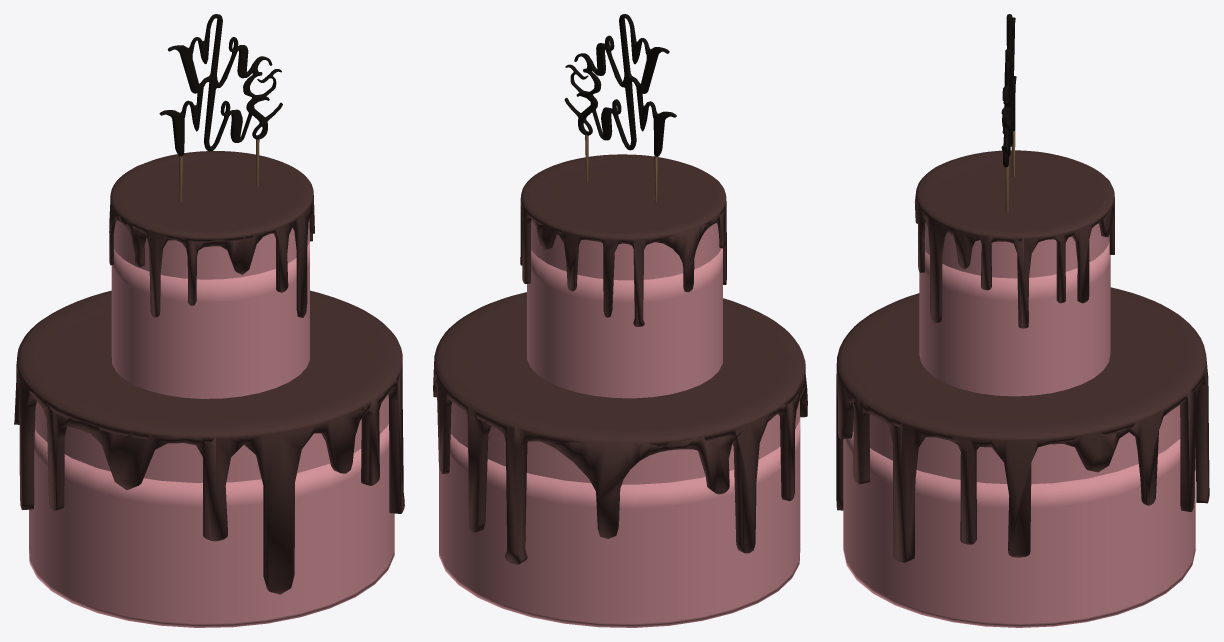
File: 2-tier-blush-ganache-mrms.glb
3 renders of one model, left to right at view 1: azimuth 30°, elevation 25°; view 2: azimuth 150°, elevation 25°; view 3: azimuth 270°, elevation 25°, orthographic.
Parts seen in each view (by area): view 1: Cylinder.023, tHE ICING.004, Cylinder.013, tHE ICING.003, mrms; view 2: Cylinder.023, tHE ICING.004, Cylinder.013, tHE ICING.003, mrms; view 3: Cylinder.023, tHE ICING.004, Cylinder.013, tHE ICING.003, mrms.
Part boxes in pixels (x1=…): Cylinder.023: x1=29, y1=394, x2=394, y2=627; tHE ICING.004: x1=14, y1=290, x2=404, y2=594; Cylinder.013: x1=111, y1=218, x2=309, y2=398; tHE ICING.003: x1=109, y1=151, x2=314, y2=317; mrms: x1=159, y1=14, x2=282, y2=201; Cylinder.023: x1=439, y1=401, x2=800, y2=627; tHE ICING.004: x1=433, y1=292, x2=807, y2=564; Cylinder.013: x1=527, y1=220, x2=722, y2=398; tHE ICING.003: x1=520, y1=154, x2=726, y2=326; mrms: x1=564, y1=14, x2=676, y2=202; Cylinder.023: x1=843, y1=405, x2=1195, y2=627; tHE ICING.004: x1=836, y1=287, x2=1209, y2=562; Cylinder.013: x1=919, y1=221, x2=1110, y2=396; tHE ICING.003: x1=915, y1=150, x2=1114, y2=328; mrms: x1=1001, y1=14, x2=1016, y2=212.
Size of the model in its own units: 3.53 by 5.48 by 3.46.
